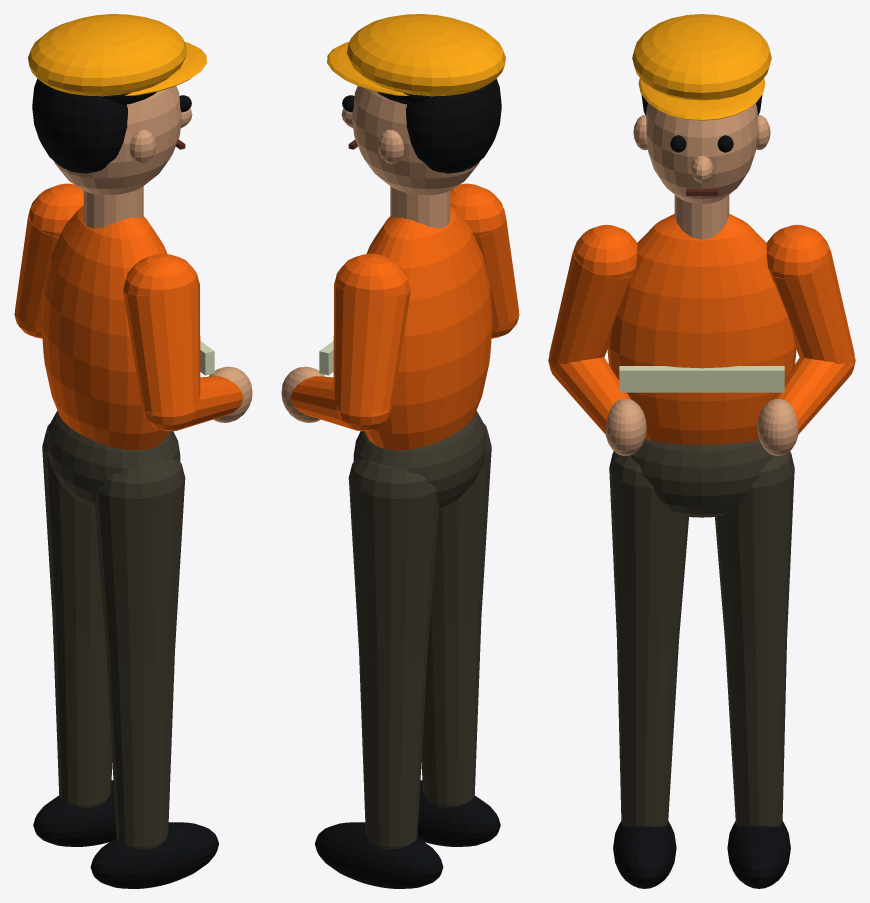
The model's file is person_04.dae.
3 renders of one model, left to right at view 1: azimuth 30°, elevation 25°; view 2: azimuth 150°, elevation 25°; view 3: azimuth 270°, elevation 25°, orthographic.
Visible parts, largest first — view 1: part0node, part2node, part1node, part5node, part4node; view 2: part0node, part2node, part1node, part5node, part4node; view 3: part0node, part2node, part4node, part5node, part1node, part3node.
Boxes of the visible parts, <box> form: part0node: <box>42,410,185,849</box>; part2node: <box>14,183,243,450</box>; part1node: <box>32,79,218,888</box>; part5node: <box>28,14,206,96</box>; part4node: <box>54,86,252,422</box>; part0node: <box>348,410,491,849</box>; part2node: <box>290,183,519,450</box>; part1node: <box>315,79,501,888</box>; part5node: <box>327,14,505,96</box>; part4node: <box>281,86,479,422</box>; part0node: <box>609,439,794,826</box>; part2node: <box>548,214,855,444</box>; part4node: <box>605,103,798,455</box>; part5node: <box>632,14,771,120</box>; part1node: <box>613,95,790,888</box>; part3node: <box>619,366,784,392</box>.
Size of the model in its own units: 0.033 by 0.05 by 0.15.
